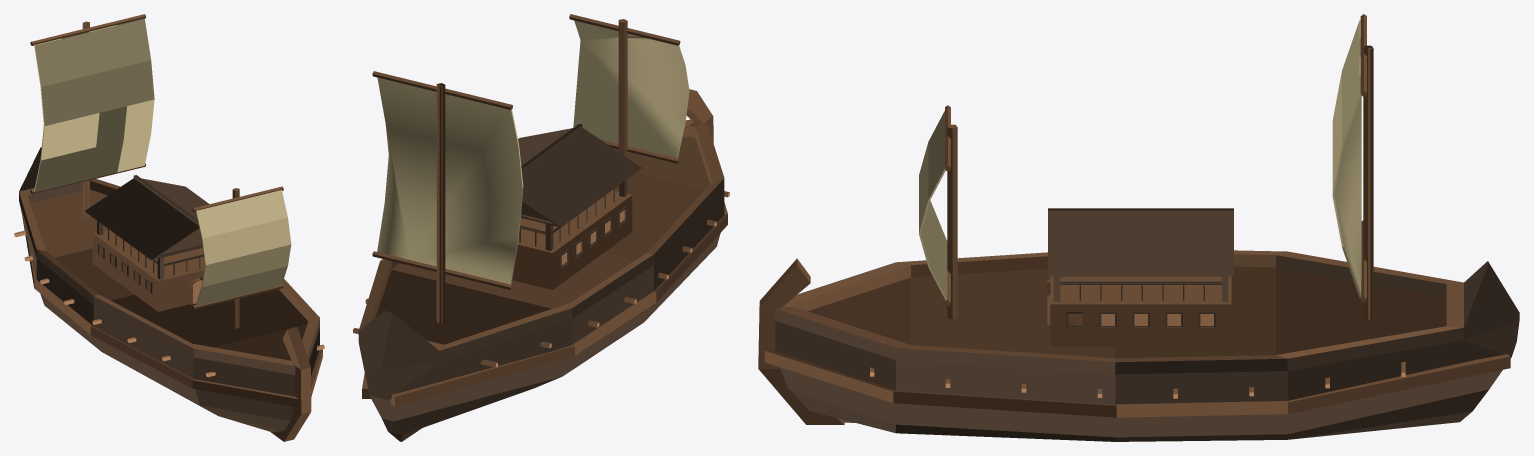
3 renders of one model, left to right at view 1: azimuth 30°, elevation 25°; view 2: azimuth 150°, elevation 25°; view 3: azimuth 270°, elevation 25°, orthographic. The views are drawn at different scales.
Parts seen in each view (by area): view 1: noah_s_ark; view 2: noah_s_ark; view 3: noah_s_ark.
Boxes of the visible parts, box(x1,y1,x2,y2) form: noah_s_ark: box(14, 14, 324, 441); noah_s_ark: box(353, 14, 729, 441); noah_s_ark: box(758, 14, 1519, 441).
Size of the model in its own units: 441 by 625 by 1153.
